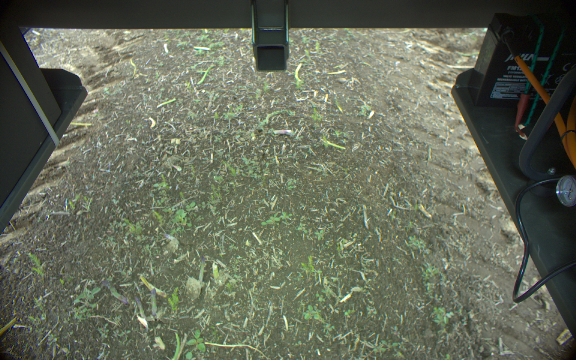aspa: (101, 279, 128, 307), (193, 254, 209, 286), (129, 287, 144, 321), (147, 286, 161, 321)
